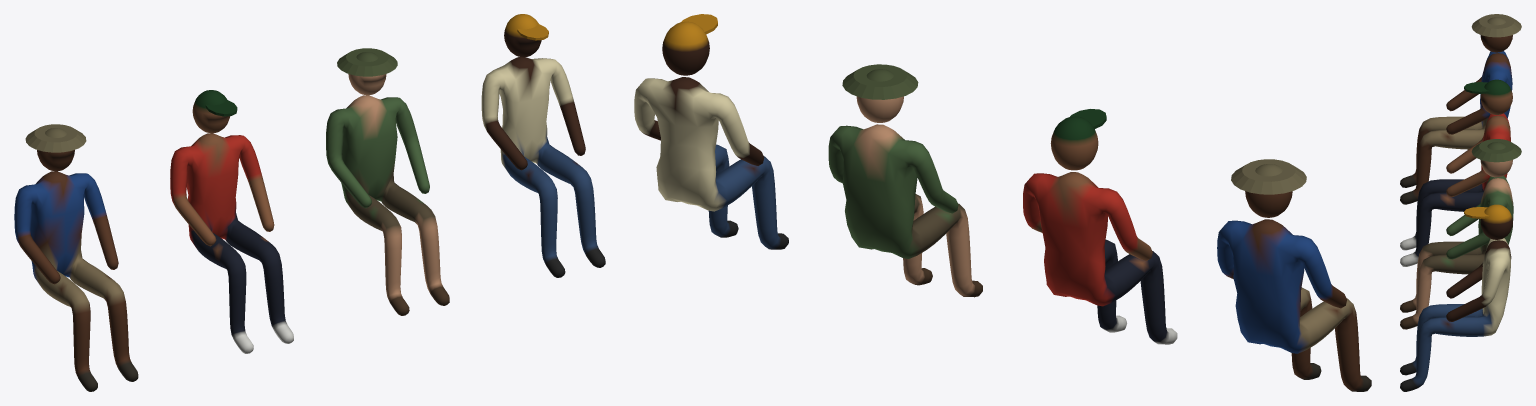
File: personSit.glb
The picture shows the model from 3 angles, left to right: view 1: azimuth 30°, elevation 25°; view 2: azimuth 150°, elevation 25°; view 3: azimuth 270°, elevation 25°; orthographic projection. The views are drawn at different scales.
Visible parts, largest first — view 1: sit_2, sit_0, sit_1, sit_3; view 2: sit_2, sit_0, sit_1, sit_3; view 3: sit_3, sit_2, sit_0, sit_1.
Boxes of the visible parts, x1,y1,x2,y2 form: sit_2: (326, 48, 449, 315); sit_0: (14, 124, 138, 391); sit_1: (170, 90, 293, 353); sit_3: (481, 14, 605, 277); sit_2: (828, 64, 982, 297); sit_0: (1217, 159, 1371, 391); sit_1: (1023, 109, 1177, 344); sit_3: (634, 14, 788, 249); sit_3: (1400, 204, 1512, 391); sit_2: (1400, 139, 1521, 329); sit_0: (1400, 14, 1521, 204); sit_1: (1400, 79, 1512, 266).
Bounding box in the file's own units: 3.57 × 1.32 × 0.8241.
